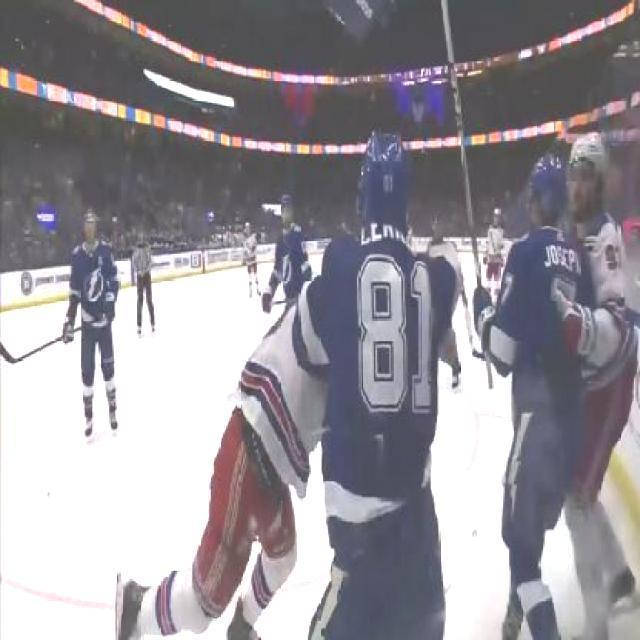fight: (168, 130, 467, 632)
